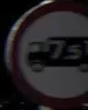Heavy Vehicles: (9, 9, 86, 93)
